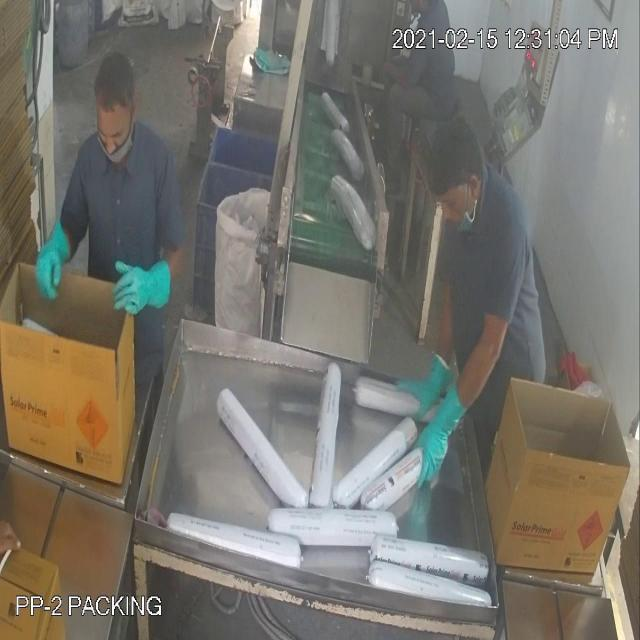Gloves: (50, 84, 442, 441)
